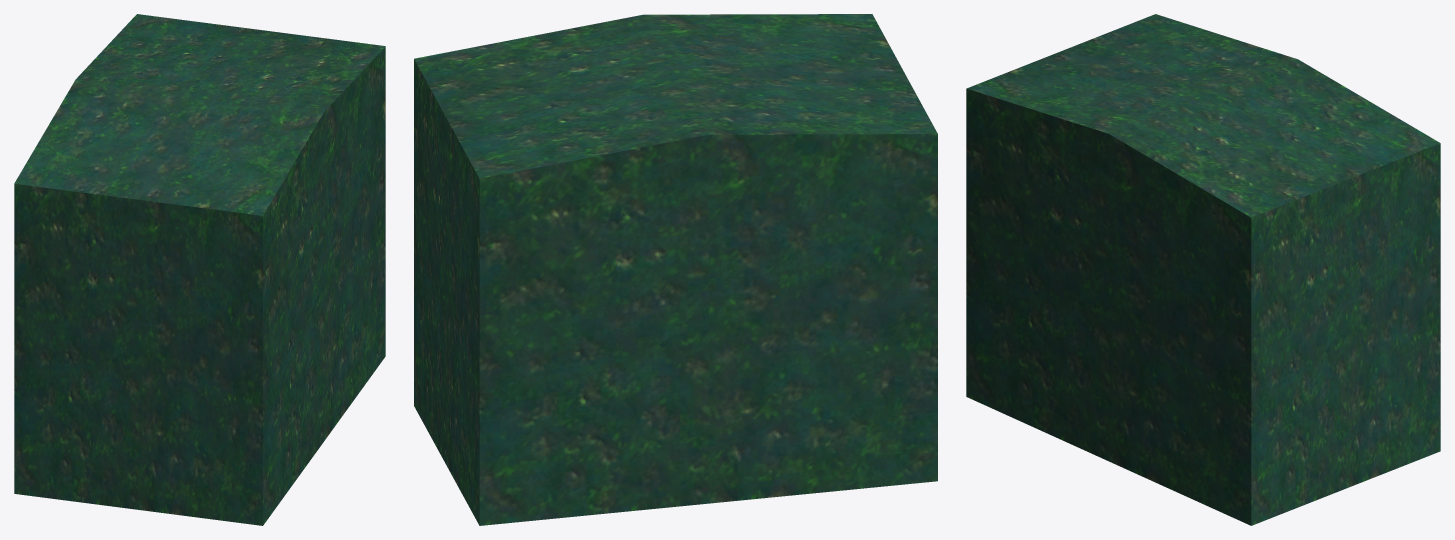
Rendered from MIRKWOOD_MIRK_PLAYSURFACE29.fbx.
The picture shows the model from 3 angles, left to right: view 1: azimuth 30°, elevation 25°; view 2: azimuth 150°, elevation 25°; view 3: azimuth 270°, elevation 25°; orthographic projection. The views are drawn at different scales.
Visible parts, largest first — view 1: MIRKWOOD_MIRK_PLAYSURFACE29; view 2: MIRKWOOD_MIRK_PLAYSURFACE29; view 3: MIRKWOOD_MIRK_PLAYSURFACE29.
Boxes of the visible parts, x1,y1,x2,y2 form: MIRKWOOD_MIRK_PLAYSURFACE29: [14, 14, 385, 525]; MIRKWOOD_MIRK_PLAYSURFACE29: [414, 14, 937, 525]; MIRKWOOD_MIRK_PLAYSURFACE29: [966, 14, 1440, 525].
Bounding box in the file's own units: 67906 × 50925 × 66800.
Materials: 1 (1 with a texture image).
